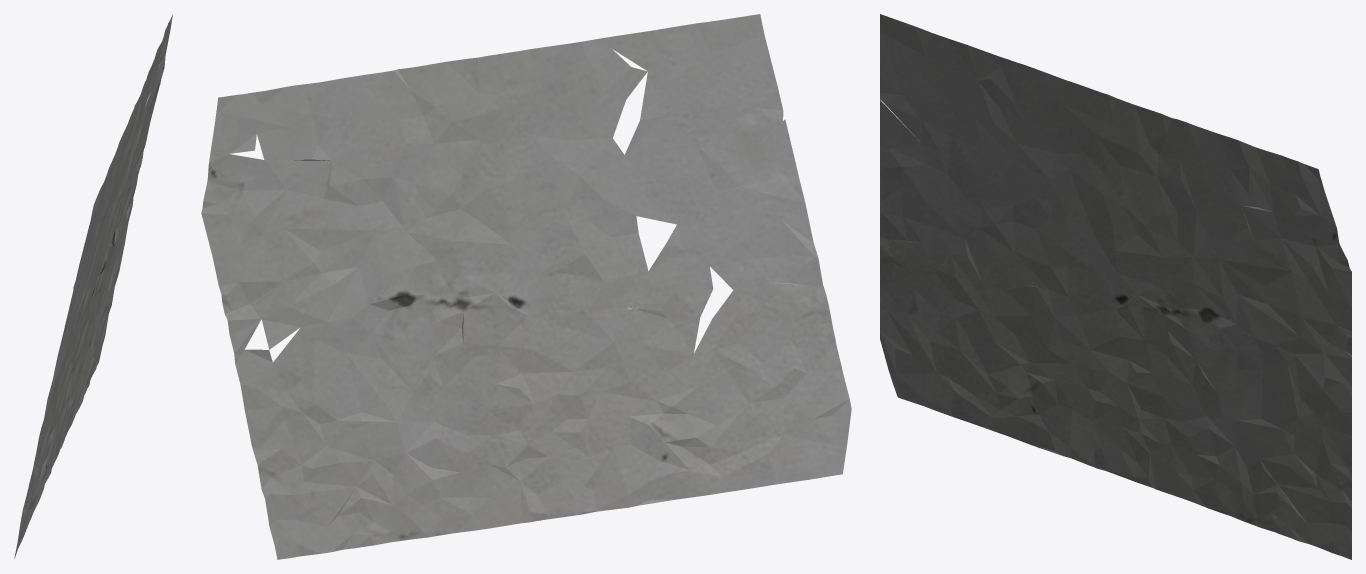
The picture shows the model from 3 angles, left to right: view 1: azimuth 30°, elevation 25°; view 2: azimuth 150°, elevation 25°; view 3: azimuth 270°, elevation 25°; orthographic projection. The views are drawn at different scales.
Bounding box in the file's own units: 0.8373 × 0.8373 × 0.8374.
3 materials, 3 textured.
